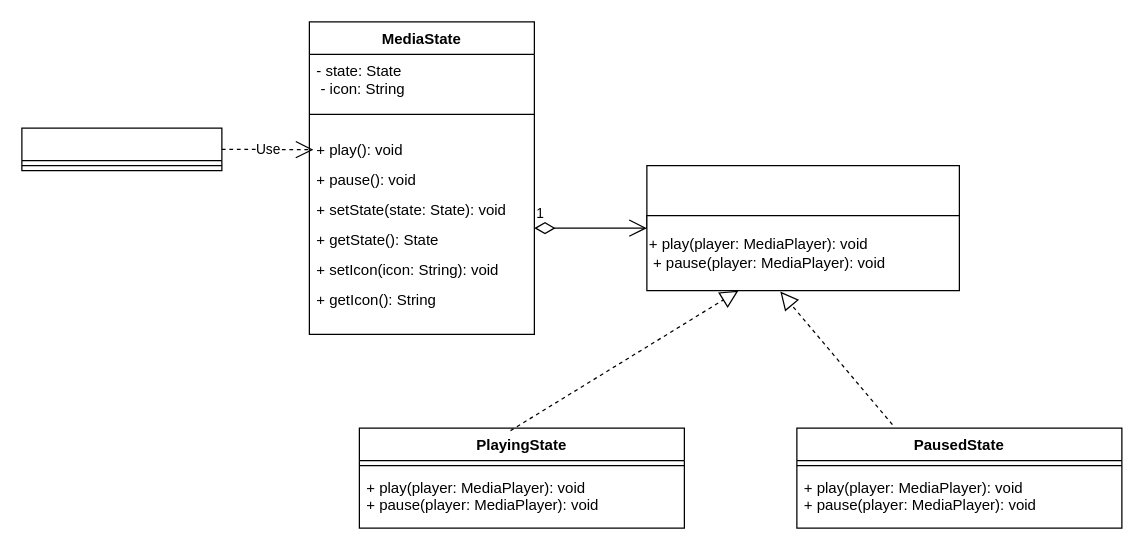
This 1144x554 diagram has some shape labels left out. Each missing label, with the centre of its shape:
"Main" goes at (x=121, y=149).
"«interface» State" goes at (x=802, y=196).
